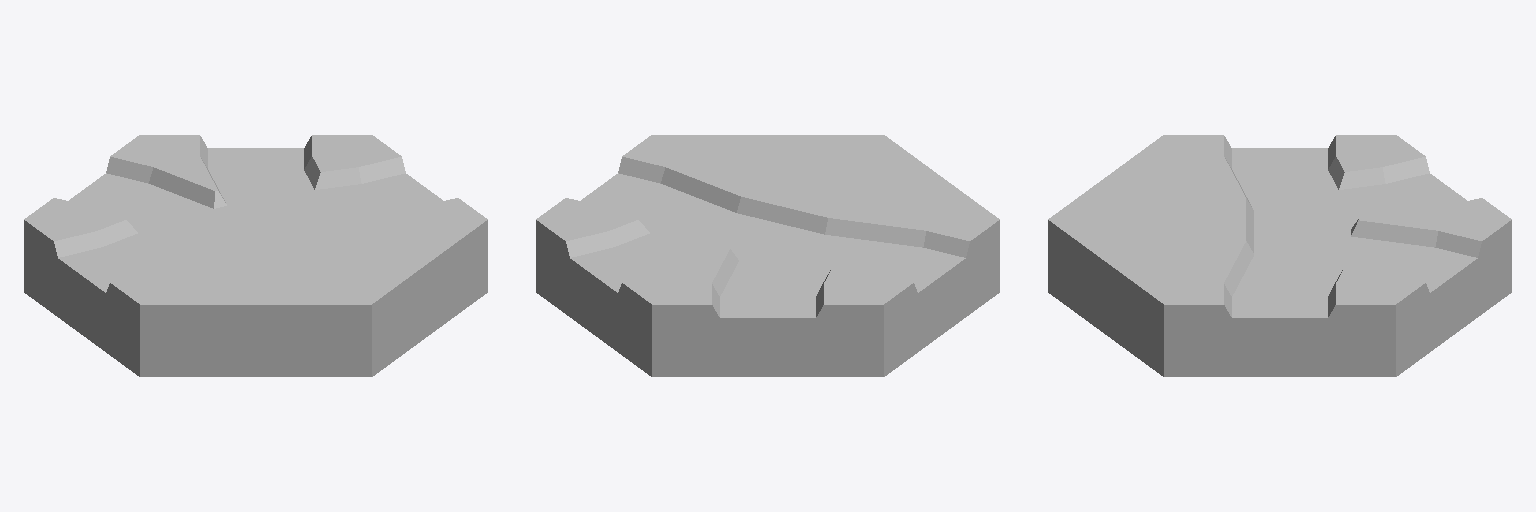
File: river_intersectionH.obj
3 views of the same model, side by side, from view 1: azimuth 30°, elevation 25°; view 2: azimuth 150°, elevation 25°; view 3: azimuth 270°, elevation 25° (orthographic).
Parts seen in each view (by area): view 1: river_intersectionH; view 2: river_intersectionH; view 3: river_intersectionH.
Boxes of the visible parts, box(x1,y1,x2,y2) form: river_intersectionH: box(24, 135, 487, 376); river_intersectionH: box(536, 135, 999, 376); river_intersectionH: box(1048, 135, 1511, 376).
Size of the model in its own units: 1 by 0.2 by 1.15.